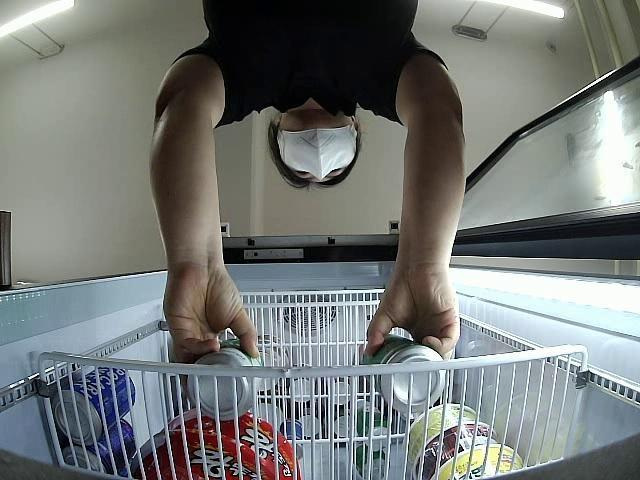12_chilsungCider: (360, 334, 444, 411), (192, 336, 258, 417)
